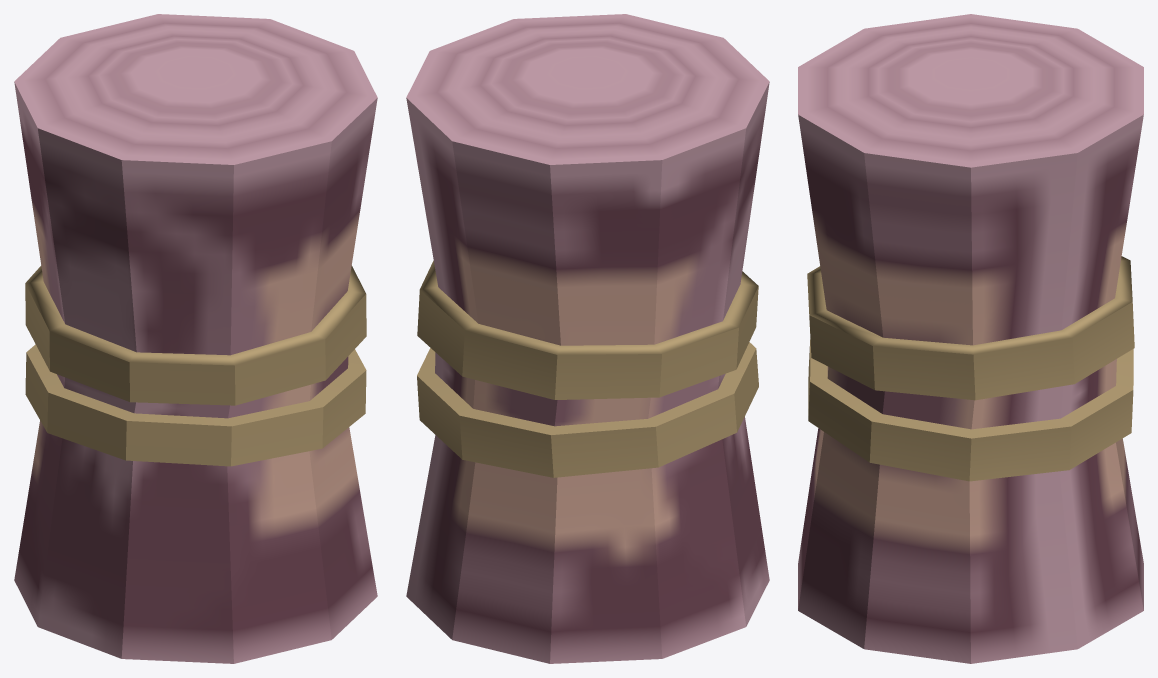
Rendered from SM_Prop_Money_Roll_01.fbx.
3 renders of one model, left to right at view 1: azimuth 30°, elevation 25°; view 2: azimuth 150°, elevation 25°; view 3: azimuth 270°, elevation 25°, orthographic.
Visible parts, largest first — view 1: SM_Prop_Money_Roll_01; view 2: SM_Prop_Money_Roll_01; view 3: SM_Prop_Money_Roll_01.
Boxes of the visible parts, <box> form: SM_Prop_Money_Roll_01: <box>14,14,377,663</box>; SM_Prop_Money_Roll_01: <box>406,14,769,663</box>; SM_Prop_Money_Roll_01: <box>798,14,1143,663</box>.
Bounding box in the file's own units: 8.17 × 12.72 × 7.77.
